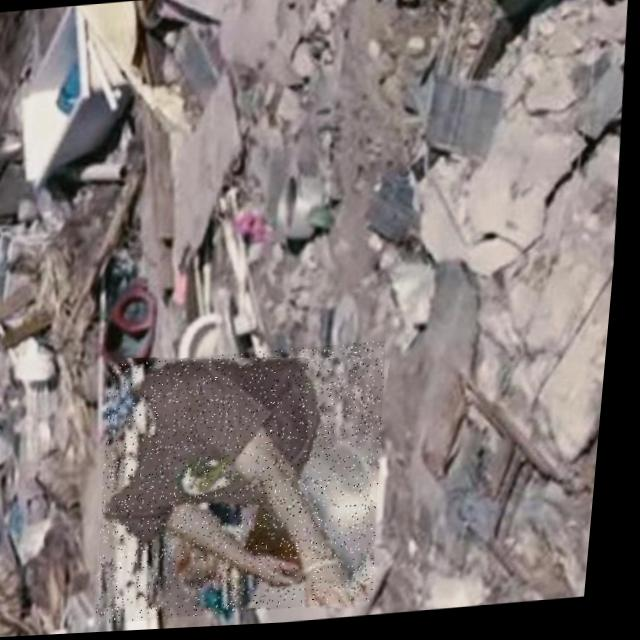Person in Rubble: (97, 344, 401, 625)
